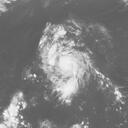cyclone: (37, 21, 96, 106)
